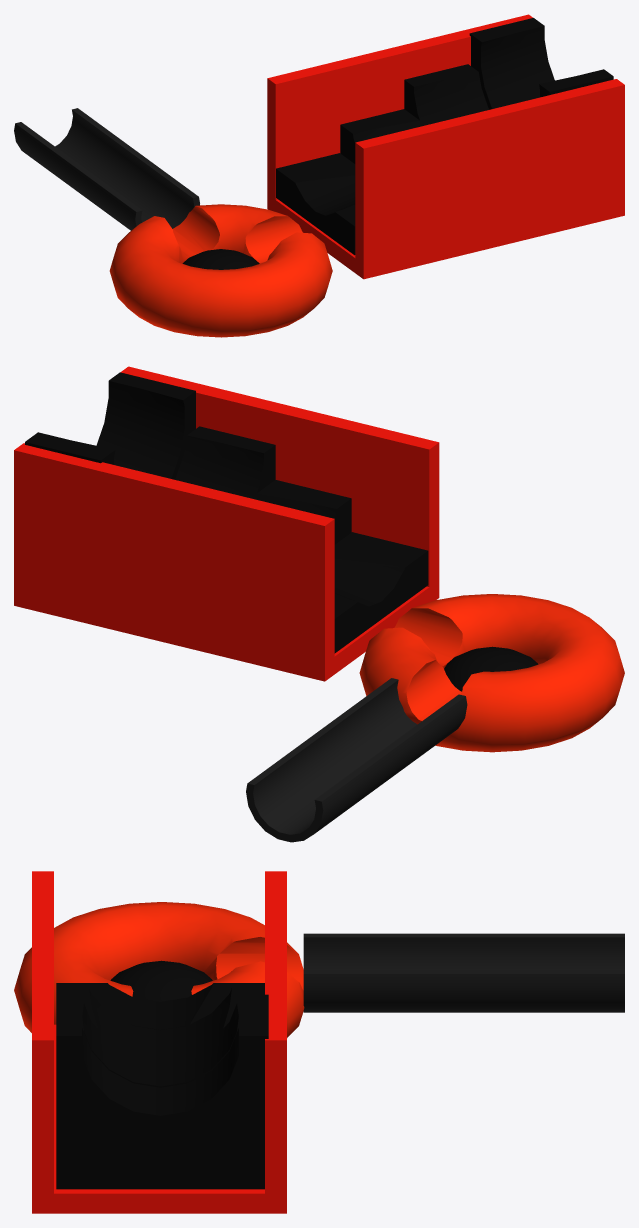
The model's file is BridgeToStraightTubepart1.FBX.
3 renders of one model, top to bottom at view 1: azimuth 30°, elevation 25°; view 2: azimuth 150°, elevation 25°; view 3: azimuth 270°, elevation 25°, orthographic. The views are drawn at different scales.
Visible parts, largest first — view 1: C-Ext001, Torus001, Box001, Tube001, OilTank001; view 2: C-Ext001, Torus001, Box001, Tube001, OilTank001; view 3: Box001, Tube001, C-Ext001, Torus001, OilTank001.
Boxes of the visible parts, <box> form: C-Ext001: <box>267,14,624,279</box>; Torus001: <box>109,204,332,337</box>; Box001: <box>276,18,613,255</box>; Tube001: <box>14,108,199,230</box>; OilTank001: <box>182,249,259,269</box>; C-Ext001: <box>14,366,439,681</box>; Torus001: <box>359,594,624,752</box>; Box001: <box>25,372,428,653</box>; Tube001: <box>246,678,467,842</box>; OilTank001: <box>444,646,538,691</box>; Box001: <box>56,983,268,1189</box>; Tube001: <box>303,933,624,1012</box>; C-Ext001: <box>32,871,286,1213</box>; Torus001: <box>14,902,304,1037</box>; OilTank001: <box>110,960,212,1001</box>.
Size of the model in its own units: 175 by 62.32 by 155.
